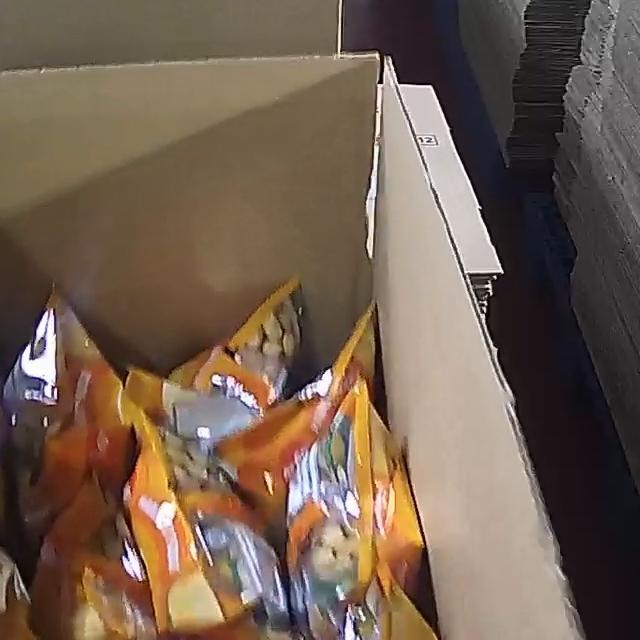cheese: (0, 287, 467, 640)
